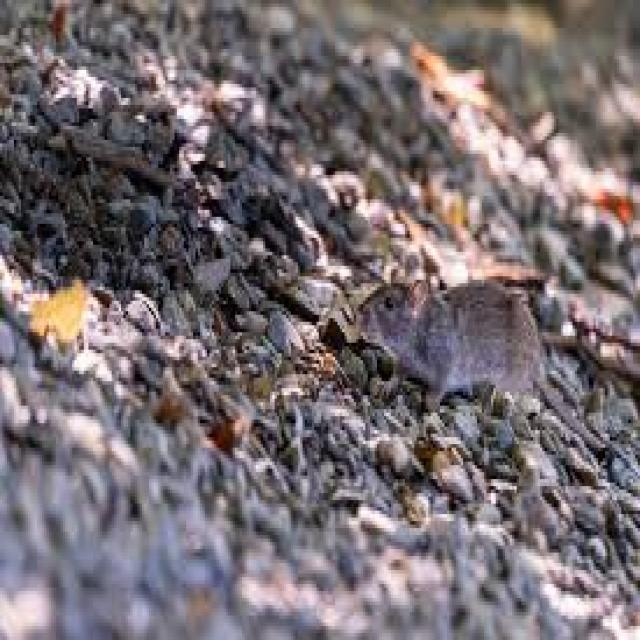Rat: (354, 224, 566, 443)
